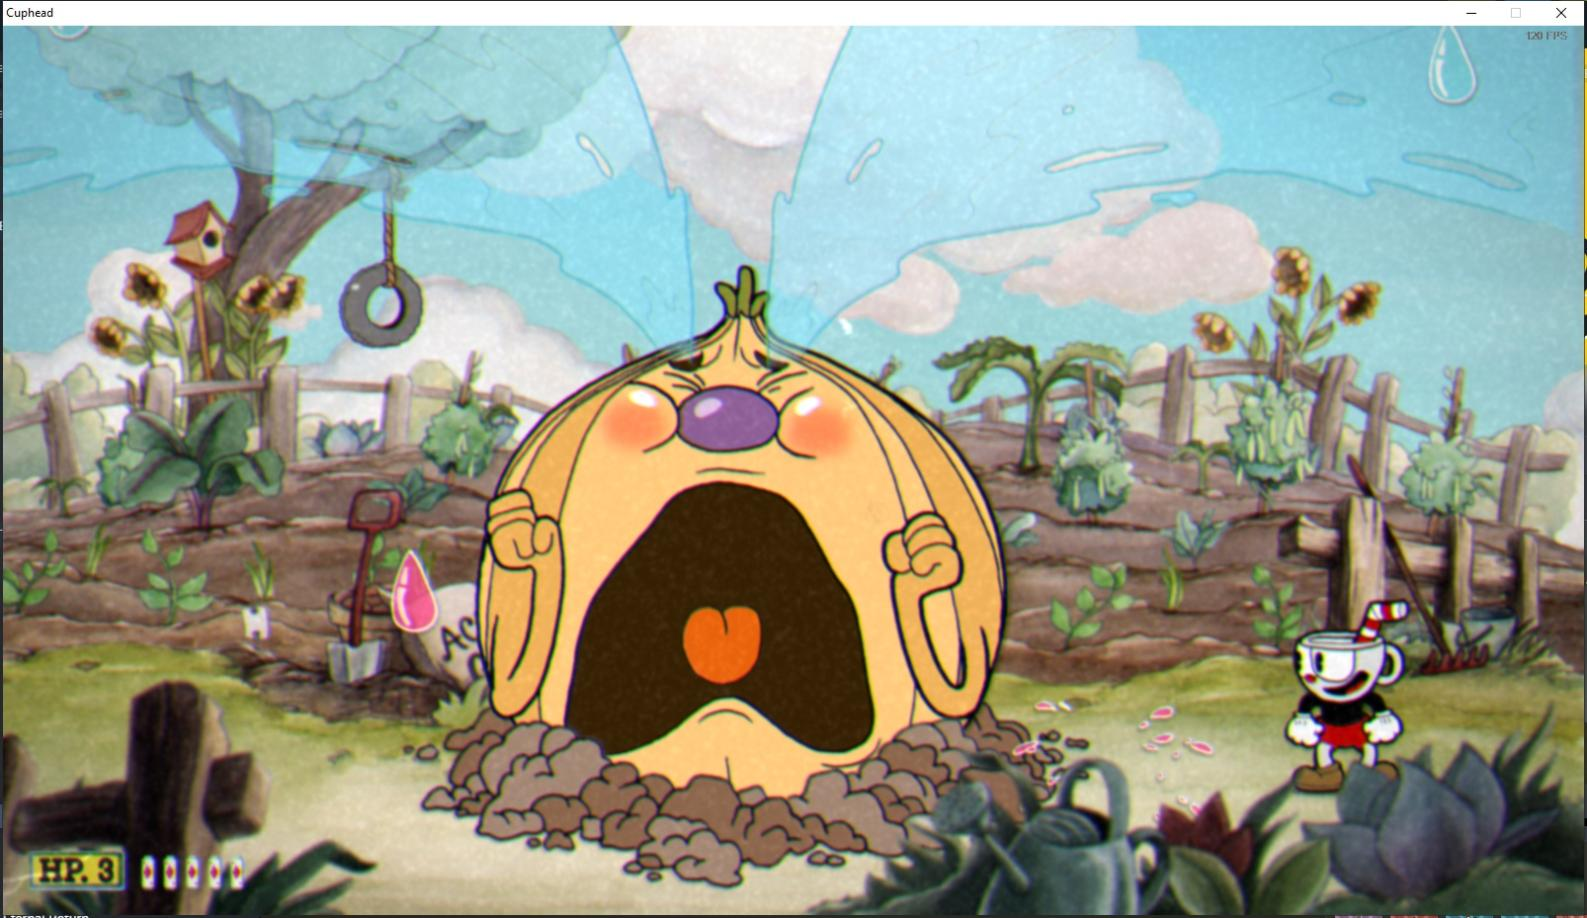hp3: (92, 852, 122, 890)
onion_boss: (465, 255, 1022, 831)
pink_rain: (381, 542, 442, 640)
player: (1270, 594, 1422, 806)
rain: (1420, 27, 1485, 113)
